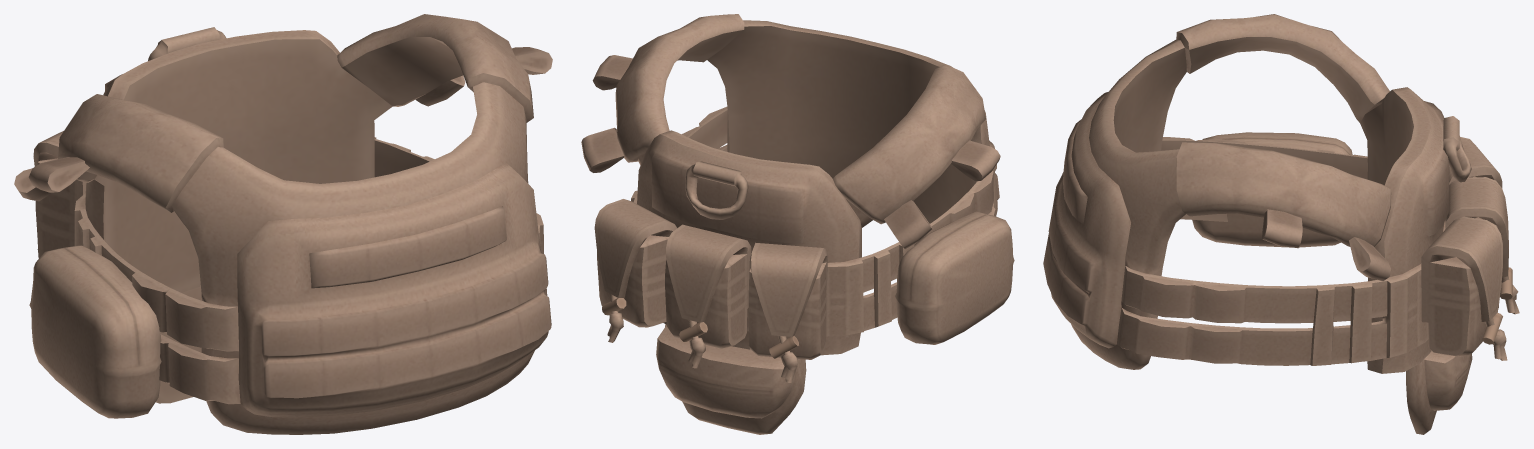
Rendered from IG_Armor_Lv5-2.fbx.
3 renders of one model, left to right at view 1: azimuth 30°, elevation 25°; view 2: azimuth 150°, elevation 25°; view 3: azimuth 270°, elevation 25°, orthographic. The views are drawn at different scales.
Parts seen in each view (by area): view 1: Clothes_LV5_2; view 2: Clothes_LV5_2; view 3: Clothes_LV5_2.
Part boxes in pixels (<box>): Clothes_LV5_2: <box>14,14,552,434</box>; Clothes_LV5_2: <box>581,14,1014,434</box>; Clothes_LV5_2: <box>1043,14,1519,434</box>.
Size of the model in its own units: 0.8083 by 0.6082 by 0.7846.
